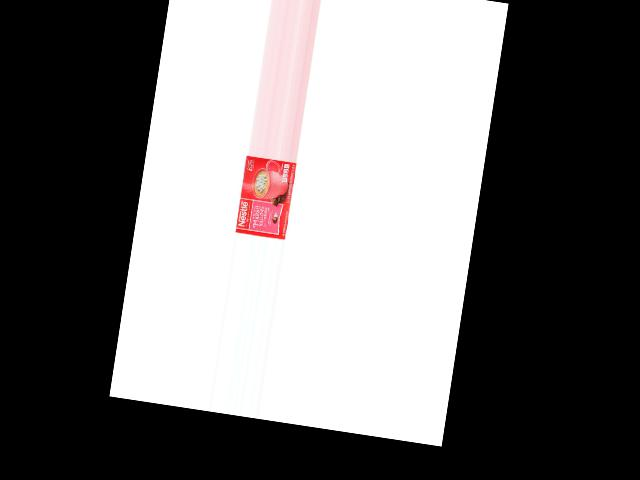chocolate: (237, 155, 299, 238)
